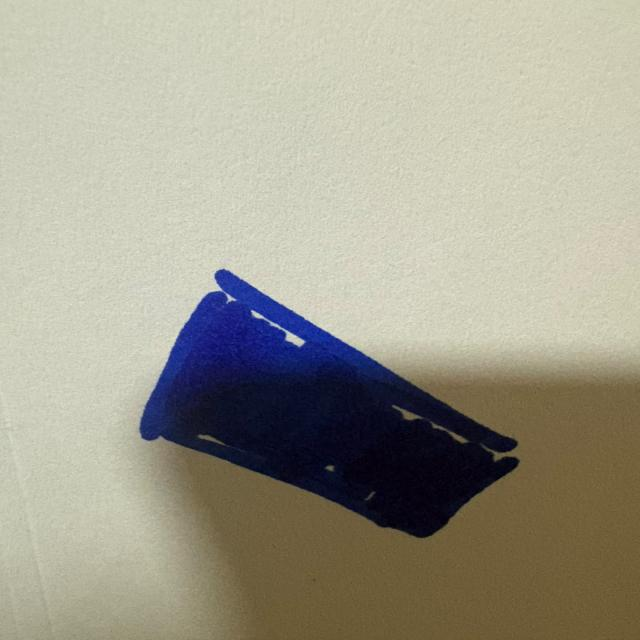Rectangle: (140, 270, 518, 538)
